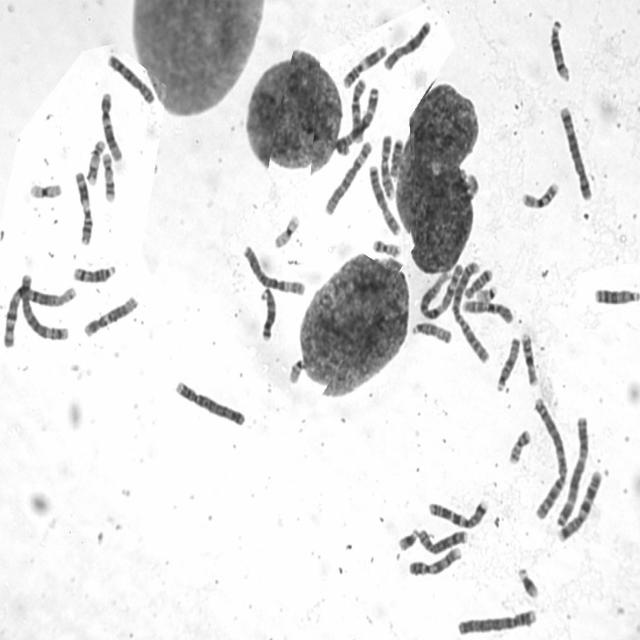A1: (2, 280, 76, 348), (417, 260, 465, 320)
A2: (528, 395, 570, 522), (448, 258, 491, 366)
A3: (554, 413, 590, 529), (334, 83, 380, 157)
B4: (173, 378, 247, 428), (454, 605, 538, 636)
B5: (557, 103, 594, 202), (19, 272, 70, 342)
C10: (460, 297, 515, 325), (348, 75, 368, 144)
C11: (341, 42, 388, 89), (72, 168, 94, 248)
C12: (82, 292, 140, 339), (98, 89, 123, 162)
C6: (322, 138, 373, 217), (241, 241, 307, 297)
C7: (555, 467, 603, 542), (426, 496, 488, 530)
C8: (105, 51, 156, 106), (414, 525, 469, 555)
C9: (406, 545, 462, 577), (378, 130, 396, 201)
D13: (591, 283, 640, 307), (258, 286, 277, 342)
D14: (548, 16, 570, 82), (71, 260, 116, 284)
D15: (494, 335, 522, 393), (408, 319, 453, 345)
E16: (519, 177, 561, 210), (519, 329, 539, 388)
E17: (85, 138, 106, 186), (100, 150, 116, 204)
E18: (462, 266, 494, 300), (388, 136, 403, 178)
F19: (272, 212, 301, 249), (27, 178, 63, 201)
F20: (506, 426, 533, 466), (371, 236, 402, 258)
G21: (516, 564, 540, 600), (396, 524, 420, 552)
G22: (286, 356, 306, 384), (474, 282, 499, 304)
X: (382, 17, 432, 72), (366, 162, 402, 237)
